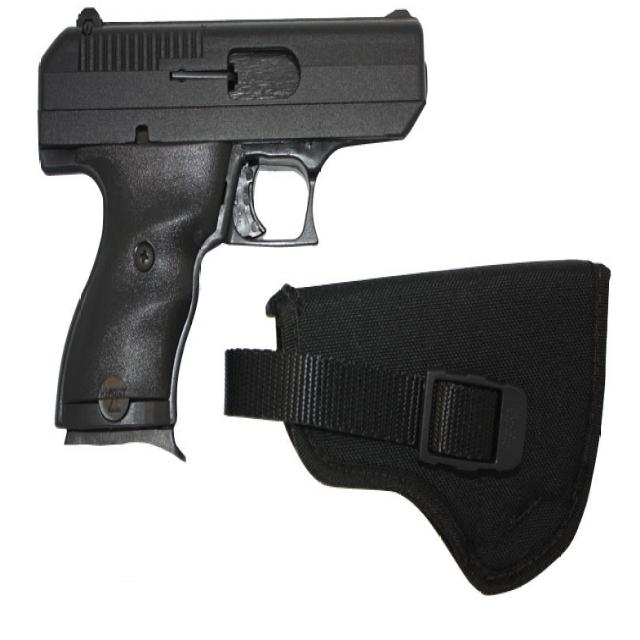Weapon: (38, 9, 426, 443)
